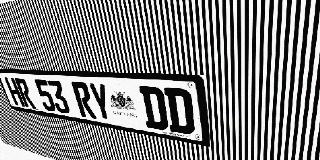3: (47, 80, 71, 115)
5: (34, 79, 57, 112)
D: (164, 87, 195, 135), (139, 86, 169, 131)
H: (4, 77, 25, 107)
R: (71, 82, 97, 119), (14, 78, 36, 109)
Y: (87, 83, 114, 122)
